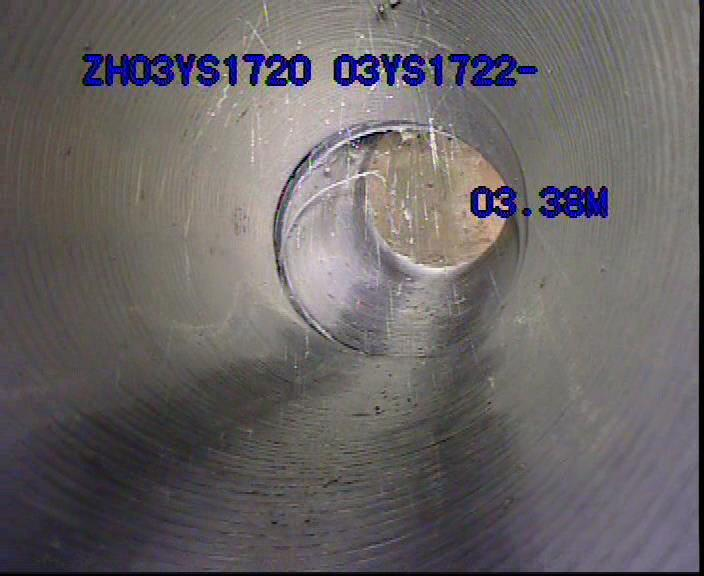JKCL: (257, 117, 524, 354), (391, 193, 397, 194)
